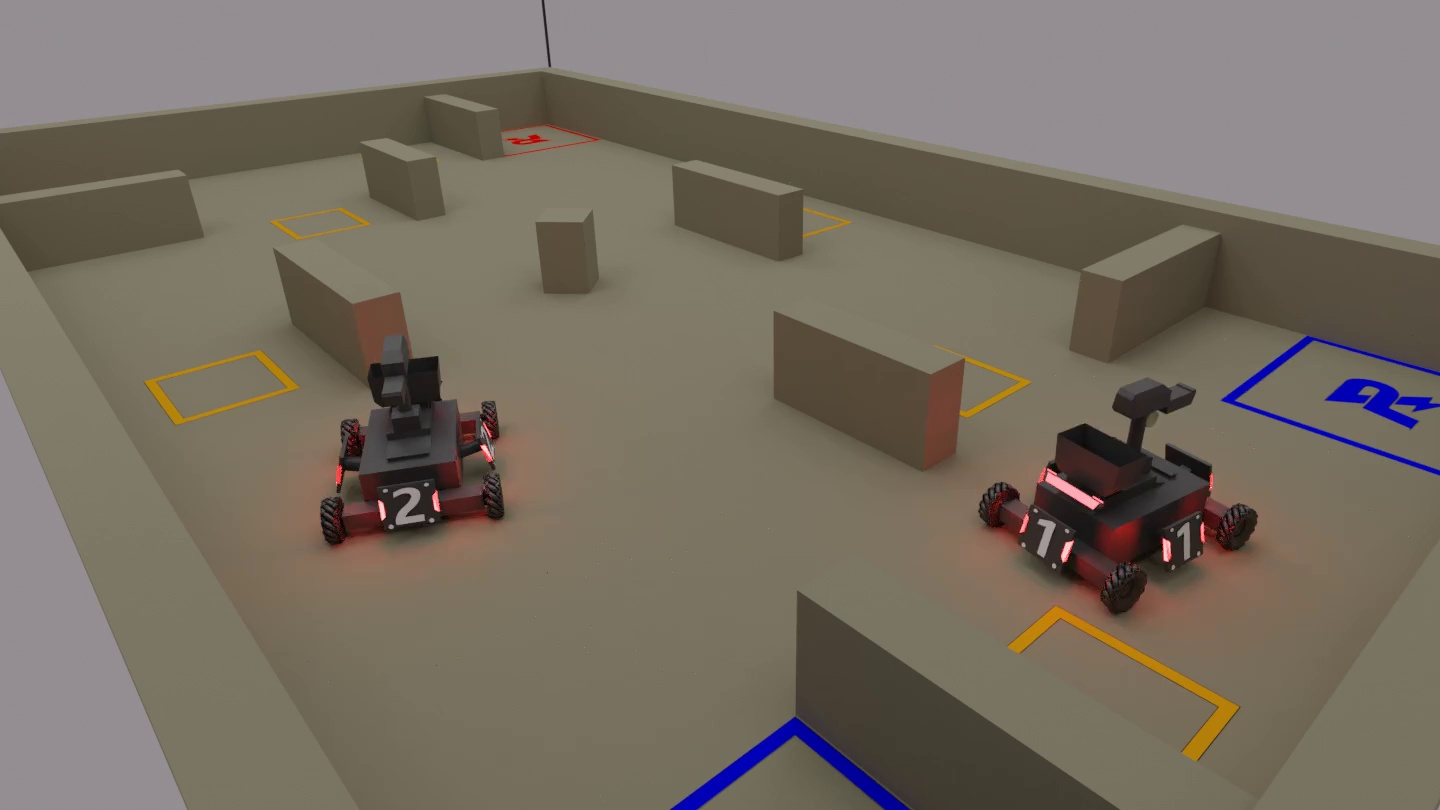Bot 1: (982, 364, 1268, 609)
Bot 2: (325, 350, 515, 568)
